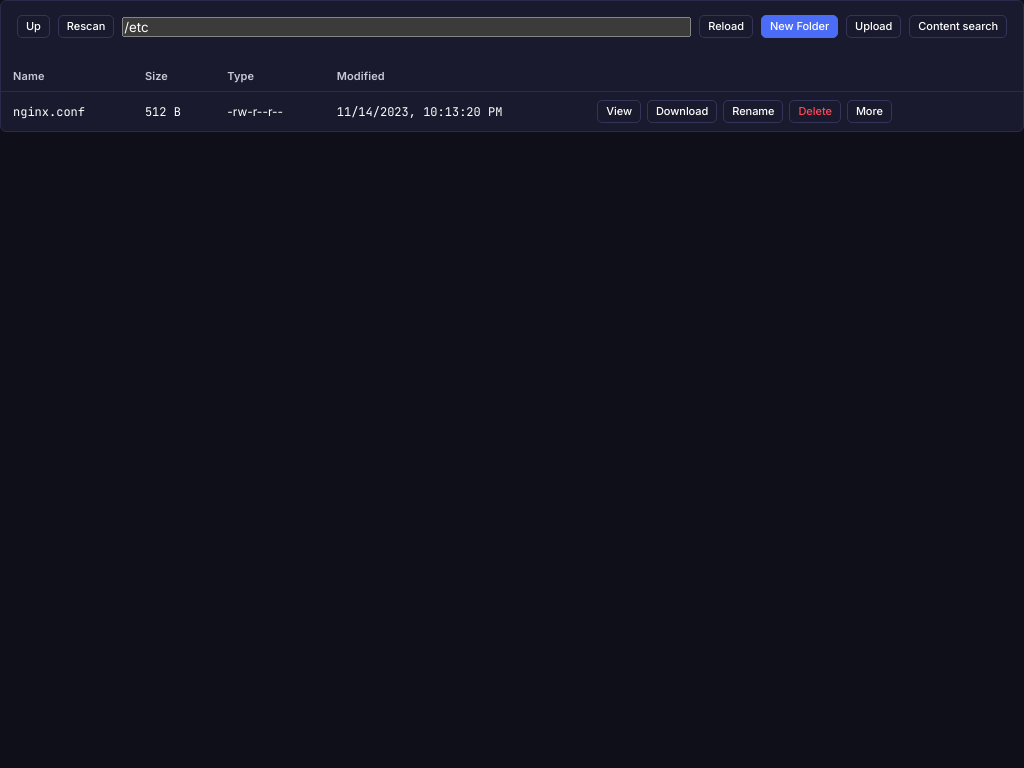
FilesTab content search › refuses to search on an empty pattern
Expected: the text "nginx.conf" is shown, [1, 92, 133, 131]
Click the button "Content search" at (958,27), box [909, 15, 1007, 38]
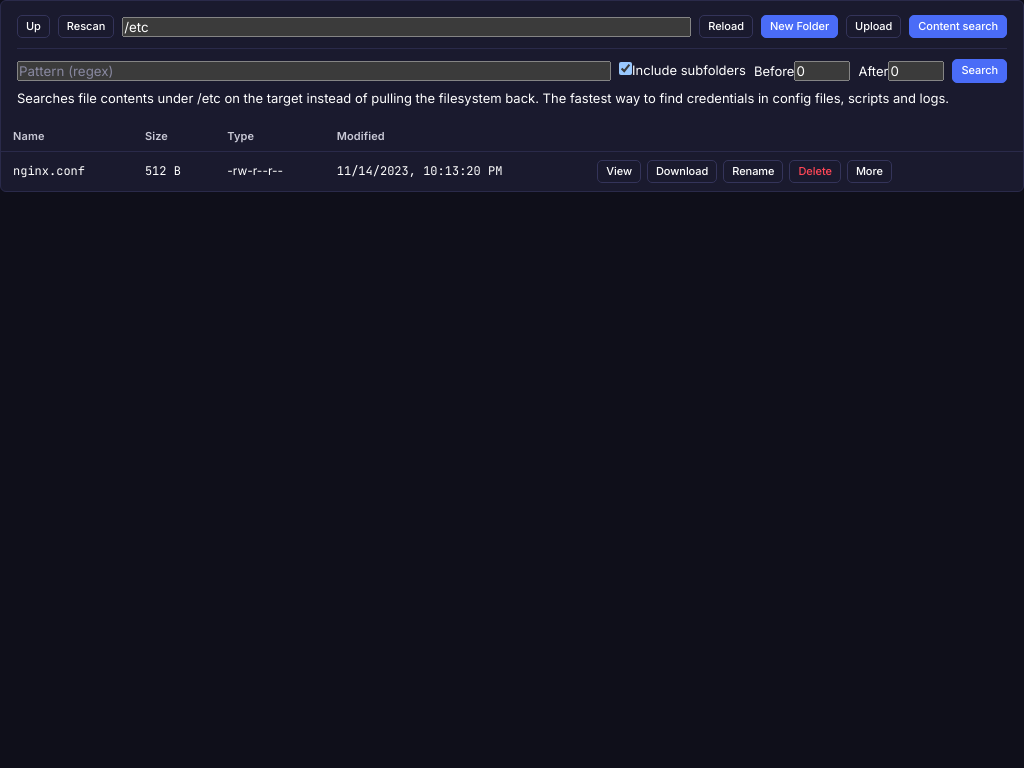
Click the button "Search" at (980,71), box [952, 59, 1007, 83]
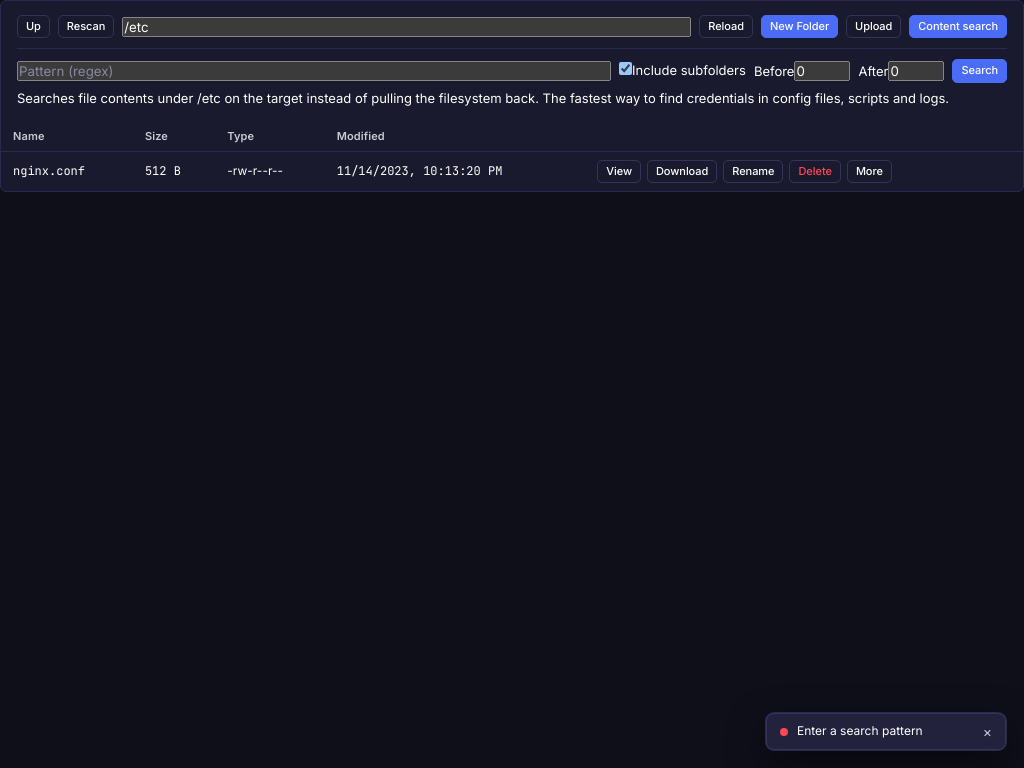
Now the text "Enter a search pattern" is shown, box [797, 723, 923, 738]
